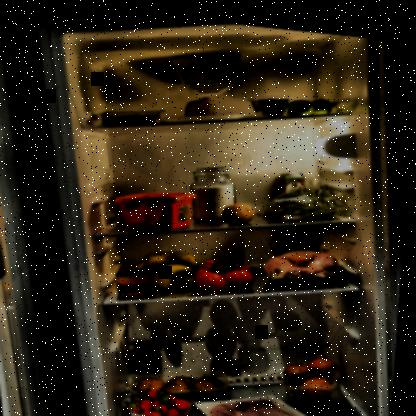banana: (134, 237, 201, 293)
butter: (118, 178, 202, 236)
cheese: (183, 87, 222, 118)
chicken: (261, 232, 354, 290)
corn: (116, 263, 159, 299)
green_beans: (258, 164, 356, 224)
heavy_cream: (279, 161, 314, 203)
lime: (277, 86, 335, 114)
onion: (284, 340, 349, 400)
potato: (130, 355, 233, 405)
shrimp: (99, 102, 161, 131)
strawberries: (119, 376, 205, 415)
sweet_potato: (222, 193, 260, 222)
tomato: (190, 242, 264, 293)
